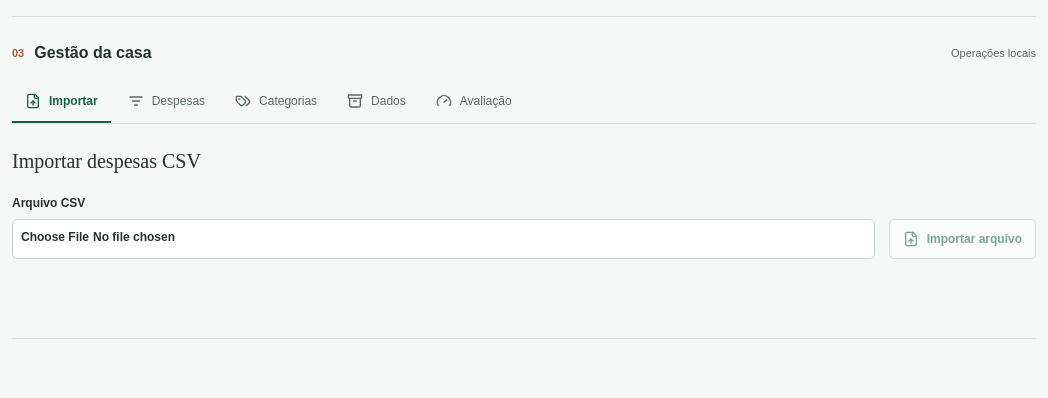
Scenario: household operations › requires confirmation before deleting demo data
This screenshot has width=1048, height=398.
Click the tab "Dados": click(376, 102) [334, 81, 419, 123]
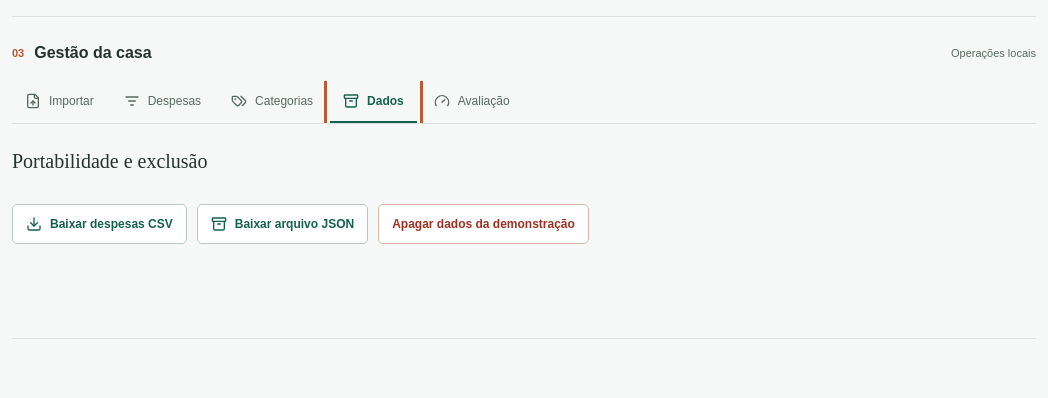
Click the button "Apagar dados da demonstração": click(483, 224) [378, 204, 589, 244]
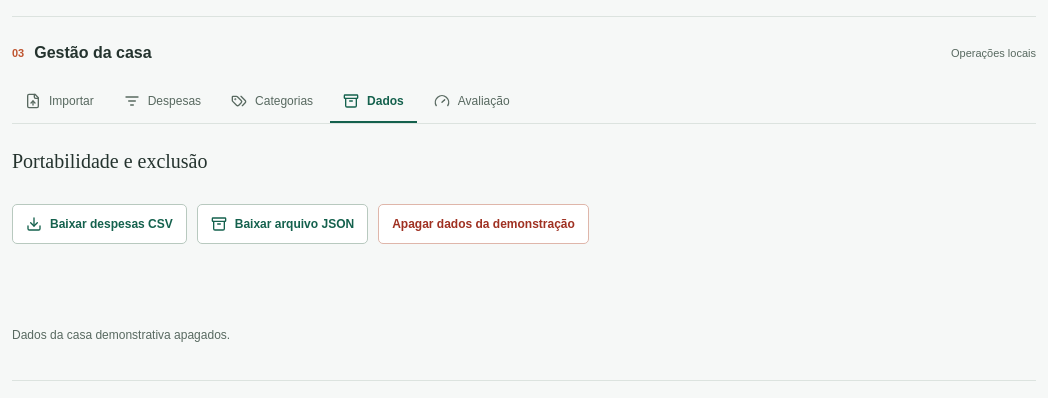
expect the text "Dados da casa demonstrativa apagados." is shown: met, box [12, 328, 230, 342]
